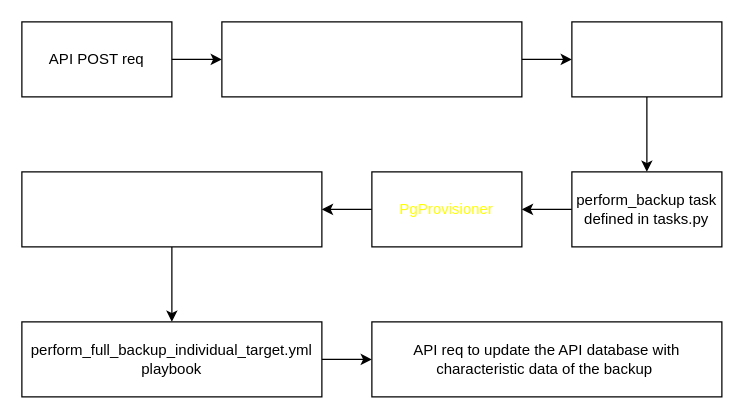
Some shapes in this 744 by 419 pixel diagram are drawn without their labels. Each missing label, with the box of its shape:
perform_create method: (571, 21, 722, 97)
perform_full_backup method: (21, 171, 322, 247)
PostgreSQLBackupViewSet: (221, 21, 522, 97)
